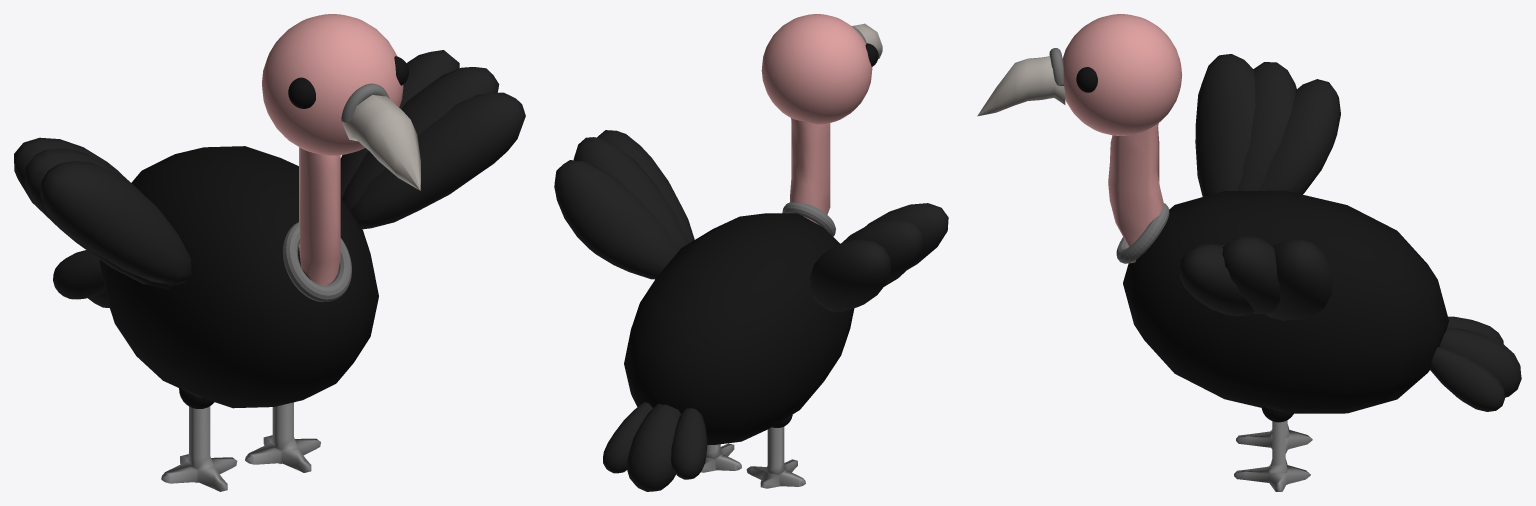
File: Zopilote1.glb
3 views of the same model, side by side, from view 1: azimuth 30°, elevation 25°; view 2: azimuth 150°, elevation 25°; view 3: azimuth 270°, elevation 25° (orthographic). The views are drawn at different scales.
Parts seen in each view (by area): view 1: Cube, Sphere, Cube.009, Cube.006, Cylinder, Cylinder.001, Cube.003, Cube.011, Cube.010, Cube.001, Torus, Cube.004 (+4 smaller); view 2: Cube, Sphere, Cube.001, Cube.007, Cylinder, Cube.003, Cube.002, Cube.008, Cube.004, Cube.006, Cube.009, Cube.011 (+3 smaller); view 3: Cube, Sphere, Cube.009, Cube.007, Cylinder, Cube.008, Cube.001, Cube.003, Cube.006, Cube.005, Cylinder.001, Cube.002 (+4 smaller).
Part boxes in pixels (box(x1,y1,x2,y2)): Cube: box(99, 146, 378, 408); Sphere: box(262, 14, 403, 155); Cube.009: box(40, 161, 191, 283); Cube.006: box(350, 92, 525, 229); Cylinder: box(299, 147, 340, 285); Cylinder.001: box(342, 95, 420, 190); Cube.003: box(341, 67, 499, 210); Cube.011: box(161, 406, 237, 491); Cube.010: box(245, 402, 320, 472); Cube.001: box(340, 50, 459, 197); Torus: box(282, 222, 351, 301); Cube.004: box(53, 250, 105, 299); Cube: box(624, 213, 854, 444); Sphere: box(761, 14, 872, 124); Cube.001: box(554, 160, 679, 279); Cube.007: box(810, 239, 890, 311); Cylinder: box(790, 118, 830, 223); Cube.003: box(573, 137, 688, 249); Cube.002: box(627, 403, 681, 491); Cube.008: box(842, 219, 922, 286); Cube.004: box(671, 408, 707, 479); Cube.006: box(597, 130, 694, 243); Cube.009: box(865, 203, 948, 269); Cube.011: box(746, 427, 805, 488); Cube: box(1123, 190, 1448, 413); Sphere: box(1062, 14, 1181, 135); Cube.009: box(1195, 54, 1255, 196); Cube.007: box(1258, 79, 1340, 194); Cylinder: box(1108, 123, 1163, 263); Cube.008: box(1237, 62, 1296, 190); Cube.001: box(1265, 239, 1332, 320); Cube.003: box(1222, 236, 1280, 313); Cube.006: box(1179, 244, 1254, 316); Cube.005: box(1430, 347, 1504, 411); Cylinder.001: box(977, 56, 1065, 116); Cube.002: box(1439, 328, 1521, 397).
Bounding box in the file's own units: 1.65 × 1.75 × 1.95.
